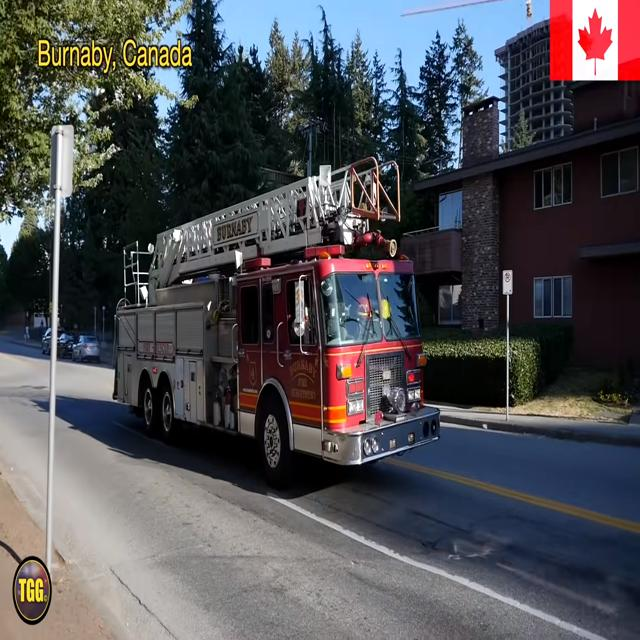emergency-vehicles: (90, 153, 497, 515)
